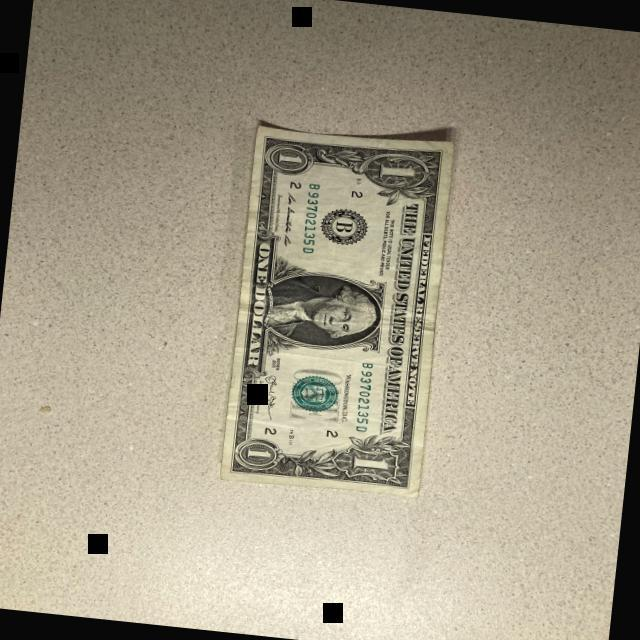one: (218, 118, 452, 500)
